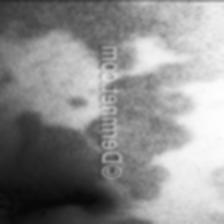Unclassified: (149, 5, 201, 44), (22, 11, 48, 39), (105, 215, 163, 224), (69, 88, 89, 110)
